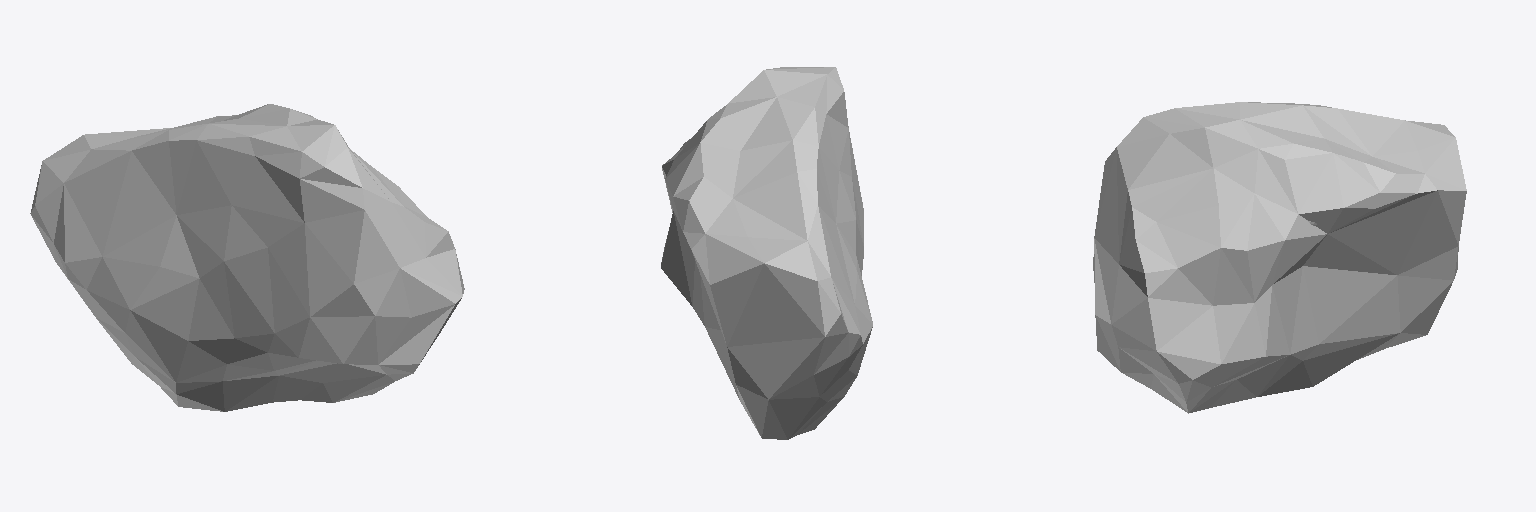
Rendered from stone.obj.
3 views of the same model, side by side, from view 1: azimuth 30°, elevation 25°; view 2: azimuth 150°, elevation 25°; view 3: azimuth 270°, elevation 25° (orthographic).
Parts seen in each view (by area): view 1: rock_low; view 2: rock_low; view 3: rock_low.
Part boxes in pixels (x1,y1,x2,y2): rock_low: (30, 104, 464, 411); rock_low: (661, 67, 872, 439); rock_low: (1093, 102, 1466, 413).
Size of the model in its own units: 2.61 by 2.52 by 2.87.